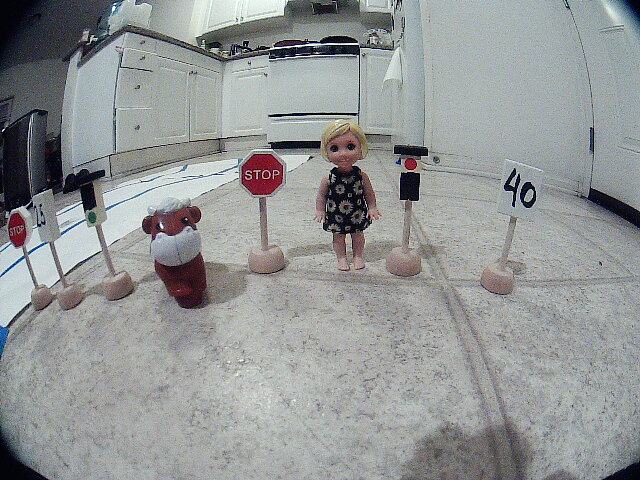Cow: (133, 200, 236, 322)
Green Traffic Light: (70, 174, 122, 229)
Person: (319, 123, 384, 273)
Red Traffic Light: (392, 136, 432, 218)
Speed Limit 25: (28, 198, 67, 244)
Speed Limit 40: (504, 151, 555, 242)
Stop Sign: (225, 145, 301, 204), (6, 203, 32, 255)
